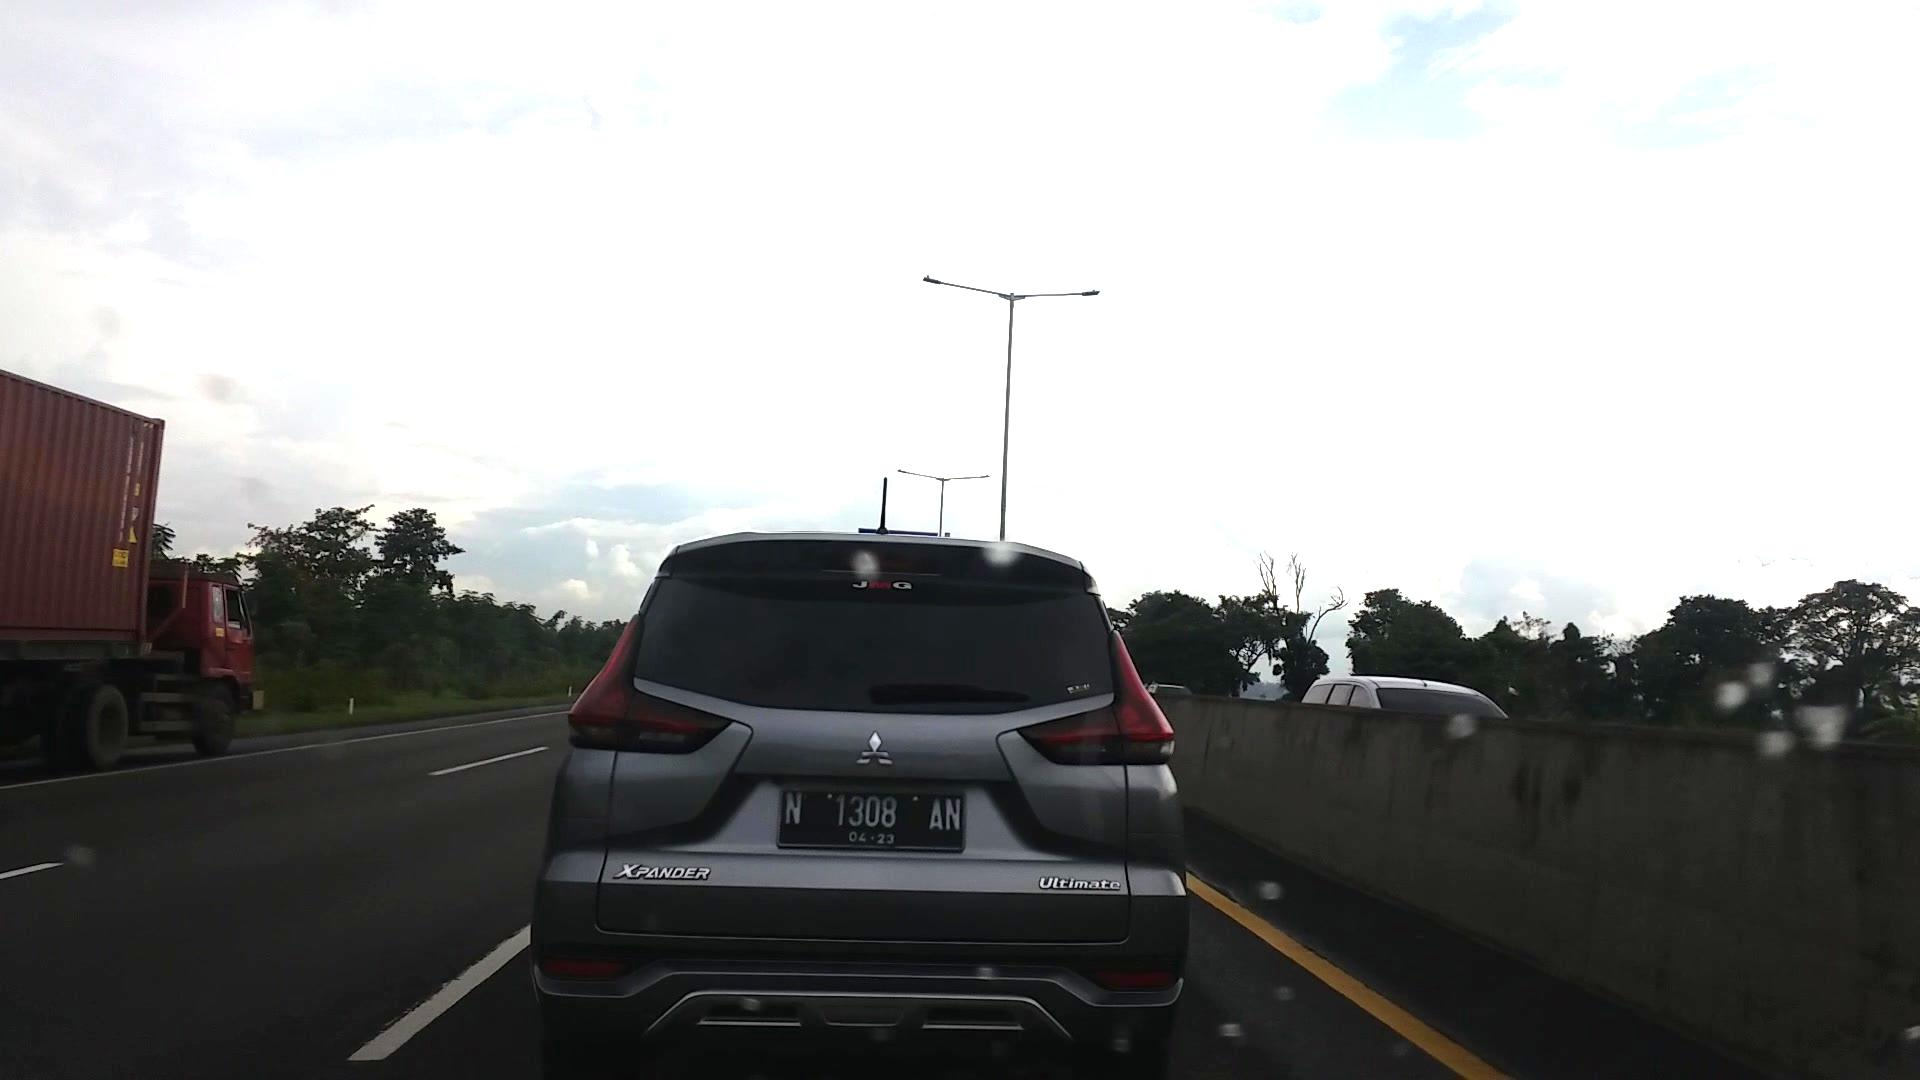plate_positive: (778, 791, 964, 851)
